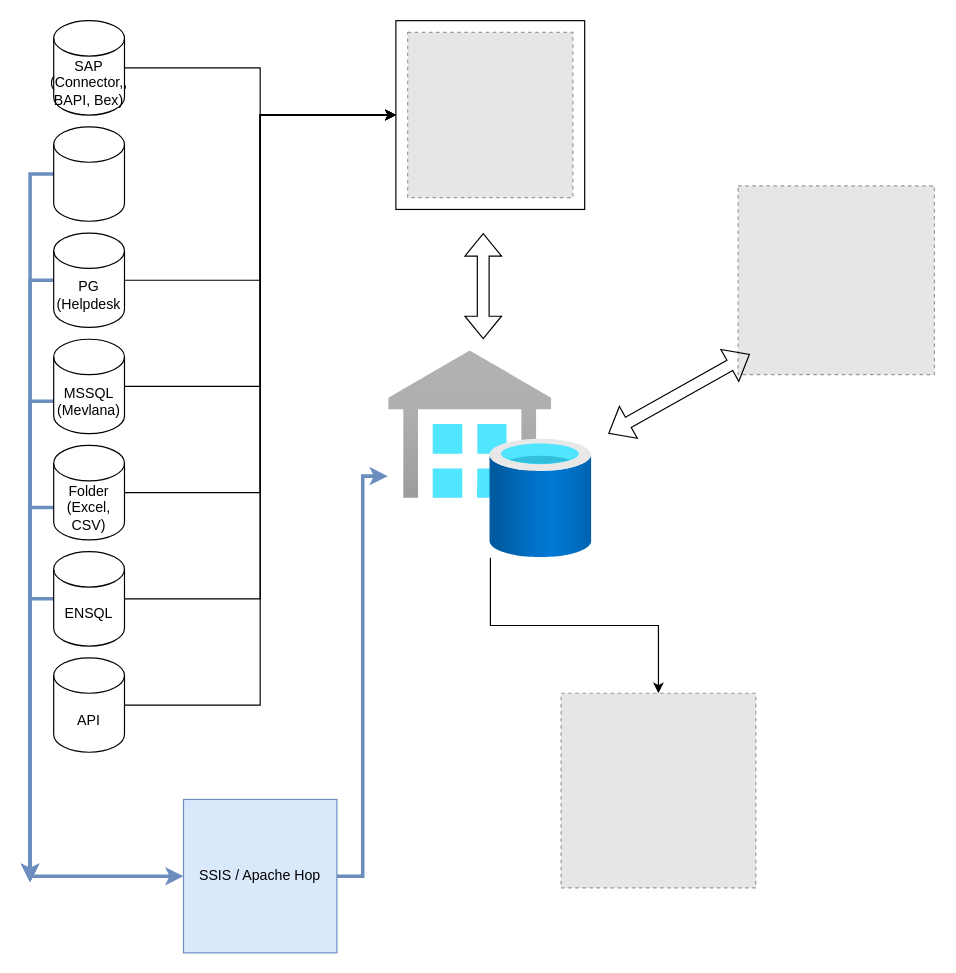
The diagram is 956 pixels wide and 973 high, and some of its shapes have lost their labels. Grey dashed boxes stand in for pictures. The shapes that lost their labels are listed below. From the top down, each one's box as (x1, y1, x2, y2) in pixels, then its label:
(53, 126, 124, 221): SAP (Oracle)
(388, 350, 592, 557): ODS/DWH
